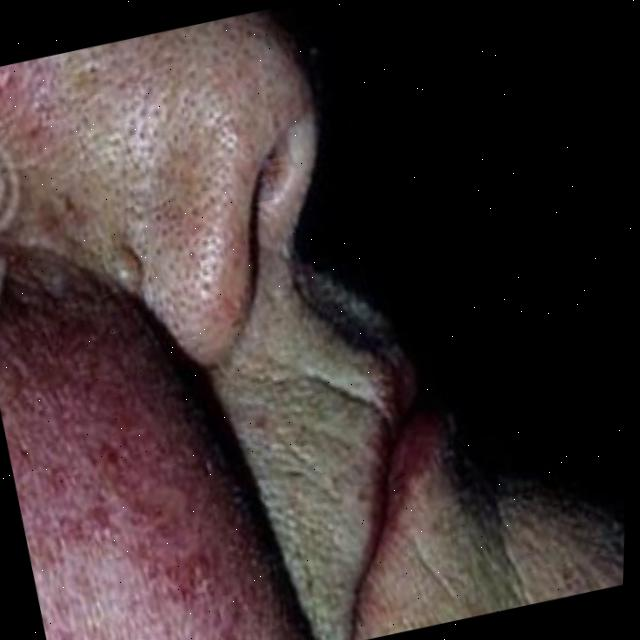Rosacea: (0, 263, 317, 640)
